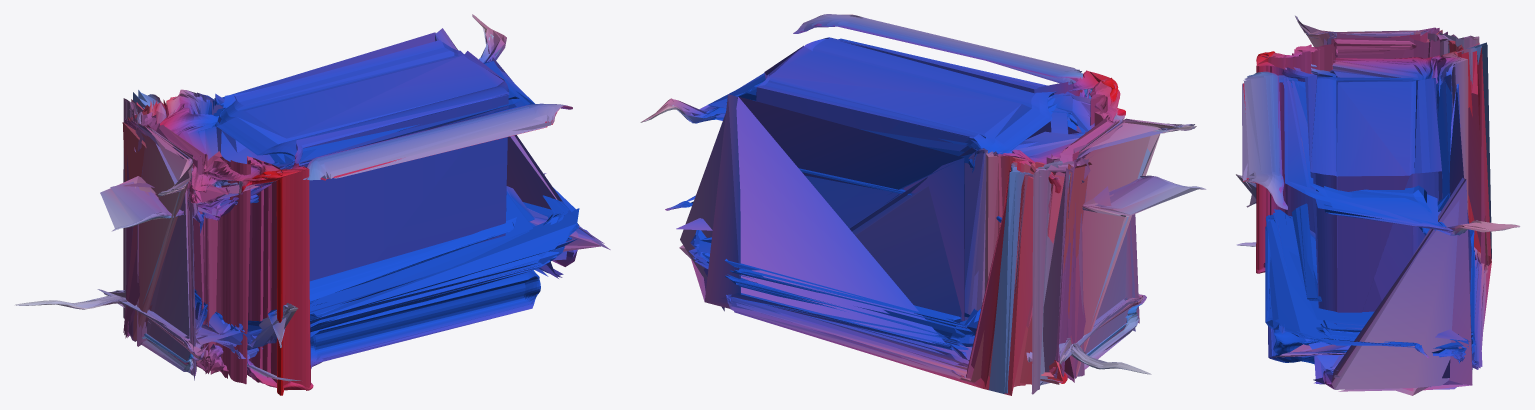
Rendered from 3DBjorkazul.glb.
3 renders of one model, left to right at view 1: azimuth 30°, elevation 25°; view 2: azimuth 150°, elevation 25°; view 3: azimuth 270°, elevation 25°, orthographic. The views are drawn at different scales.
Visible parts, largest first — view 1: Quad Sphere; view 2: Quad Sphere; view 3: Quad Sphere.
Boxes of the visible parts, box(x1,y1,x2,y2) form: Quad Sphere: box(14, 14, 610, 395); Quad Sphere: box(640, 14, 1206, 395); Quad Sphere: box(1236, 15, 1520, 395).
Size of the model in its own units: 11.7 by 4.86 by 6.07.
